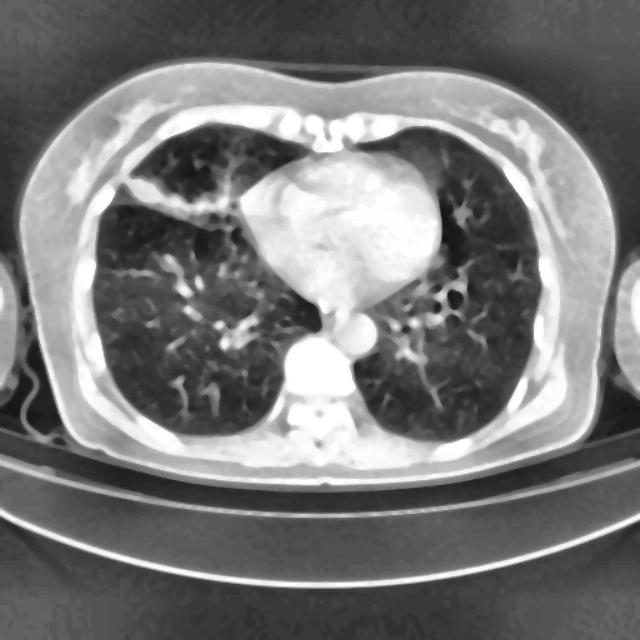covid: (16, 59, 618, 490)
